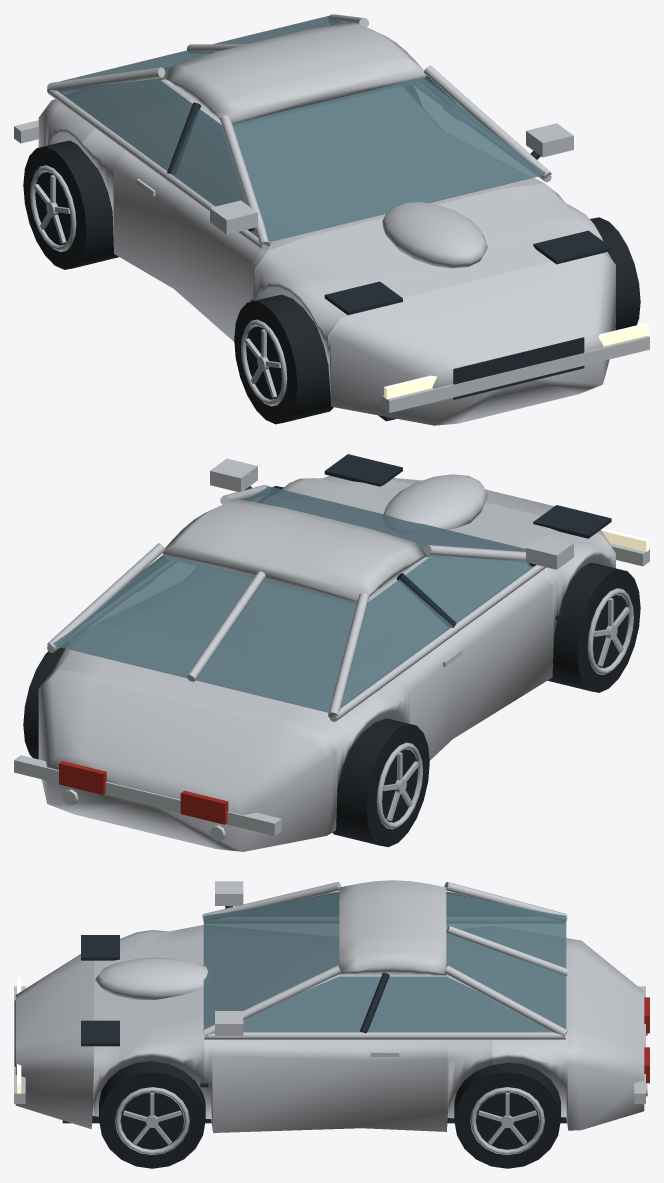
The model's file is stingray.glb.
3 renders of one model, top to bottom at view 1: azimuth 30°, elevation 25°; view 2: azimuth 150°, elevation 25°; view 3: azimuth 270°, elevation 25°, orthographic. The views are drawn at different scales.
Visible parts, largest first — view 1: exterior-paint, windows, tire-front-left, tire-rear-left, black-trim, chrome, tire-front-right, rim-front-left, rim-rear-left, headlights; view 2: exterior-paint, windows, tire-rear-left, tire-front-left, chrome, black-trim, taillights, rim-rear-left, rim-front-left, tire-rear-right, headlights; view 3: exterior-paint, windows, tire-front-right, tire-rear-right, black-trim, rim-rear-right, rim-front-right, chrome.
Boxes of the visible parts, left/top/right/bottom form: exterior-paint: left=38, top=14, right=615, bottom=425; windows: left=54, top=15, right=545, bottom=241; tire-front-left: left=234, top=294, right=333, bottom=424; tire-rear-left: left=23, top=140, right=118, bottom=269; black-trim: left=167, top=76, right=611, bottom=421; chrome: left=14, top=119, right=649, bottom=413; tire-front-right: left=590, top=217, right=640, bottom=330; rim-front-left: left=241, top=319, right=287, bottom=406; rim-rear-left: left=30, top=165, right=76, bottom=251; headlights: left=384, top=323, right=648, bottom=399; exterior-paint: left=38, top=458, right=615, bottom=851; windows: left=53, top=486, right=535, bottom=712; tire-rear-left: left=332, top=718, right=429, bottom=847; tire-front-left: left=547, top=562, right=640, bottom=692; chrome: left=14, top=543, right=649, bottom=841; black-trim: left=245, top=454, right=611, bottom=627; taillights: left=59, top=761, right=228, bottom=824; rim-rear-left: left=376, top=742, right=422, bottom=829; rim-front-left: left=587, top=588, right=633, bottom=674; tire-rear-right: left=23, top=644, right=67, bottom=759; headlights: left=394, top=477, right=648, bottom=551; exterior-paint: left=15, top=880, right=644, bottom=1132; windows: left=203, top=891, right=566, bottom=1032; tire-front-right: left=99, top=1061, right=205, bottom=1168; tire-rear-right: left=454, top=1062, right=560, bottom=1168; black-trim: left=14, top=906, right=566, bottom=1123; rim-rear-right: left=470, top=1087, right=544, bottom=1154; rim-front-right: left=115, top=1087, right=189, bottom=1154; chrome: left=14, top=986, right=647, bottom=1103.
Bounding box in the file's own units: 1.93 × 1.14 × 3.58.
